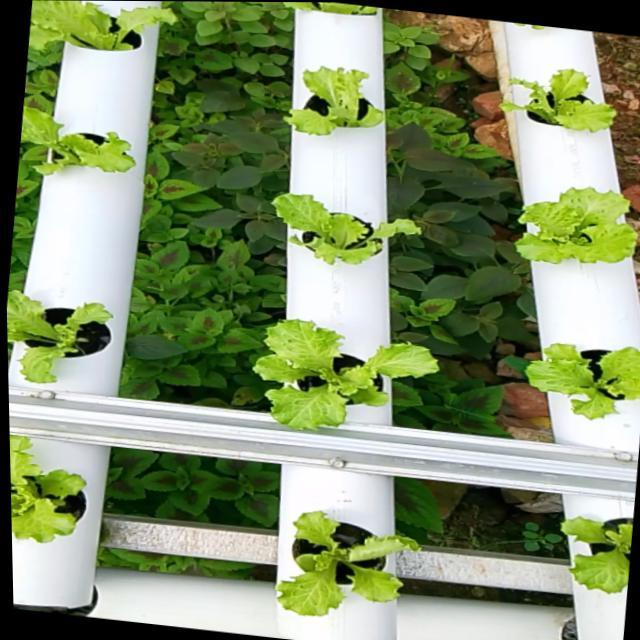Baby: (258, 319, 442, 428), (281, 509, 424, 614), (7, 285, 118, 382), (276, 193, 425, 264), (519, 187, 640, 263), (10, 434, 92, 540), (20, 105, 141, 175), (529, 342, 640, 418), (28, 0, 180, 51), (505, 68, 621, 131), (289, 66, 389, 135), (565, 515, 633, 591)
